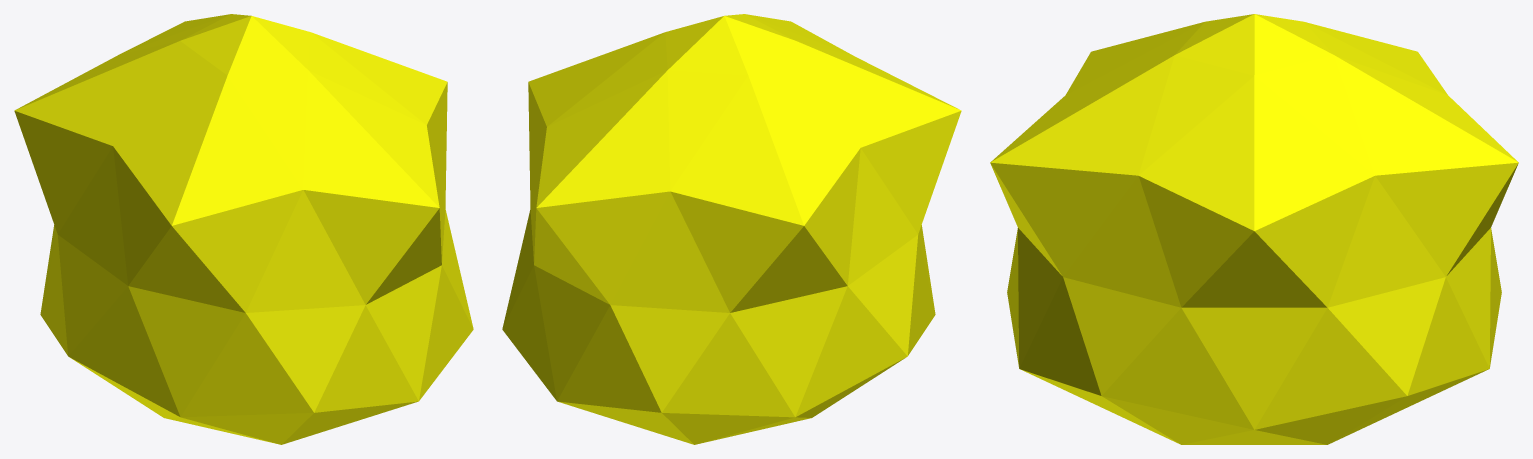
File: DaisyPollen.fbx
3 views of the same model, side by side, from view 1: azimuth 30°, elevation 25°; view 2: azimuth 150°, elevation 25°; view 3: azimuth 270°, elevation 25° (orthographic). The views are drawn at different scales.
Parts seen in each view (by area): view 1: Icosphere; view 2: Icosphere; view 3: Icosphere.
Part boxes in pixels (left/top/right/bottom): Icosphere: left=14, top=14, right=473, bottom=444; Icosphere: left=502, top=14, right=961, bottom=444; Icosphere: left=990, top=14, right=1518, bottom=444.
Bounding box in the file's own units: 116 × 112 × 135.
